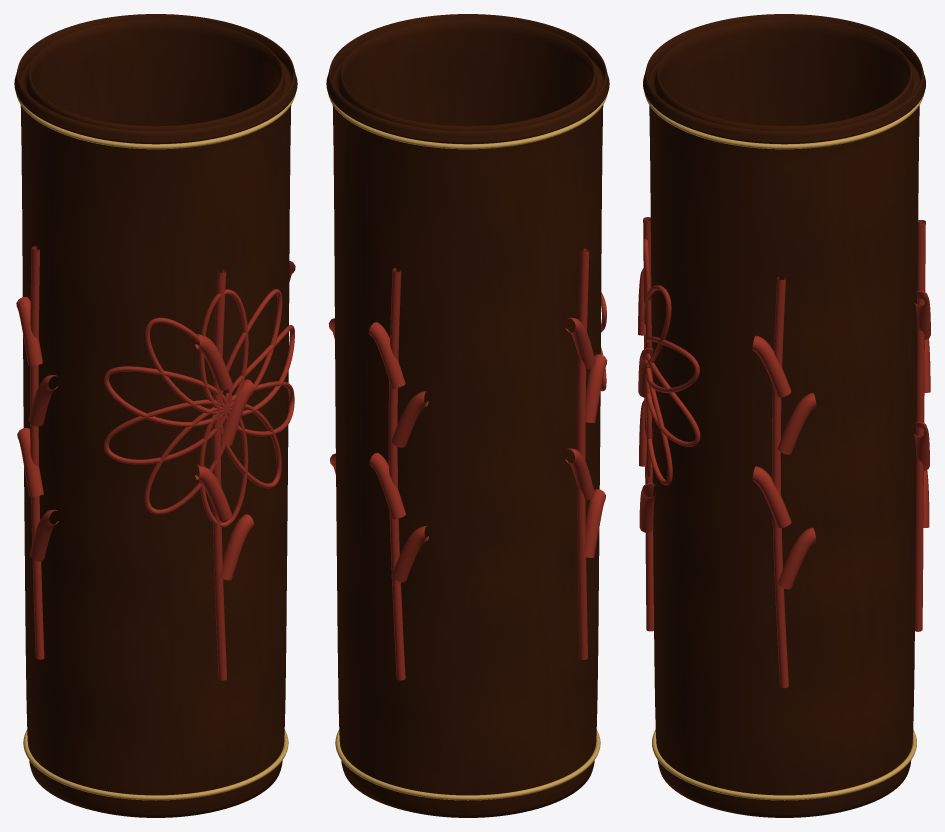
File: bcm-994.glb
3 views of the same model, side by side, from view 1: azimuth 30°, elevation 25°; view 2: azimuth 150°, elevation 25°; view 3: azimuth 270°, elevation 25° (orthographic).
Visible parts, largest first — view 1: Continuous hollow vessel with formed lip, Botanical stem - simplified, Rim and foot highlight; view 2: Continuous hollow vessel with formed lip, Botanical stem - simplified, Rim and foot highlight; view 3: Continuous hollow vessel with formed lip, Botanical stem - simplified, Rim and foot highlight.
Boxes of the visible parts, left/top/right/bottom form: Continuous hollow vessel with formed lip: left=14, top=14, right=297, bottom=817; Botanical stem - simplified: left=16, top=246, right=295, bottom=680; Rim and foot highlight: left=16, top=93, right=295, bottom=800; Continuous hollow vessel with formed lip: left=326, top=14, right=609, bottom=817; Botanical stem - simplified: left=328, top=248, right=607, bottom=680; Rim and foot highlight: left=328, top=93, right=607, bottom=800; Continuous hollow vessel with formed lip: left=643, top=14, right=925, bottom=817; Botanical stem - simplified: left=638, top=217, right=930, bottom=688; Rim and foot highlight: left=645, top=94, right=923, bottom=800.
Bounding box in the file's own units: 0.4552 × 1.19 × 0.4552.
